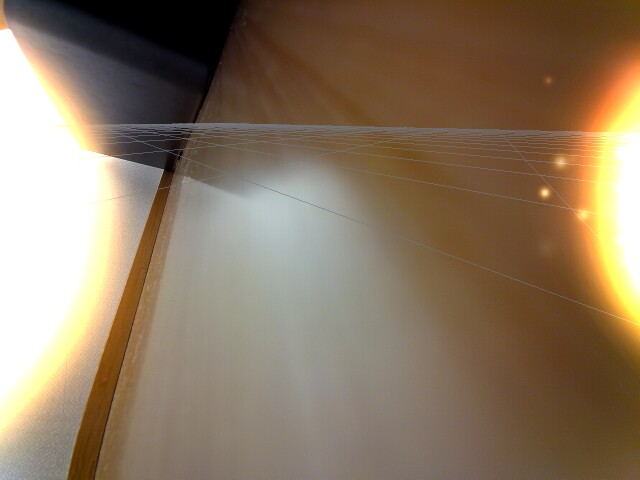firebig: (0, 0, 144, 442)
